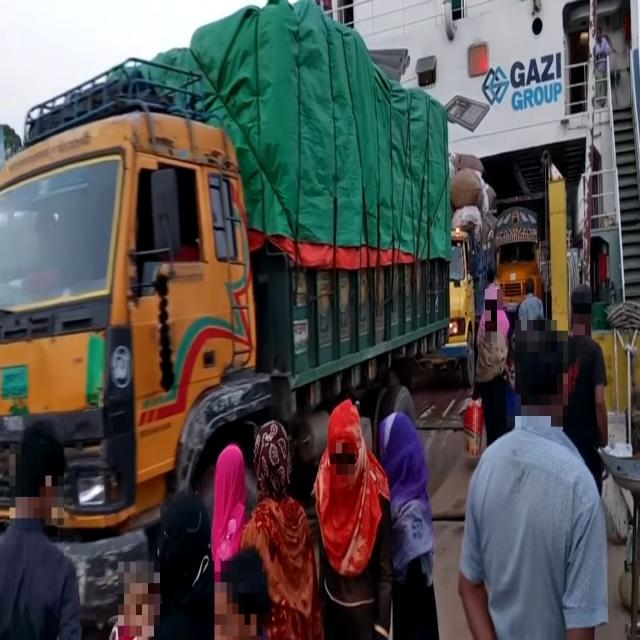truck: (0, 8, 445, 544), (494, 189, 544, 333), (450, 192, 485, 396)
